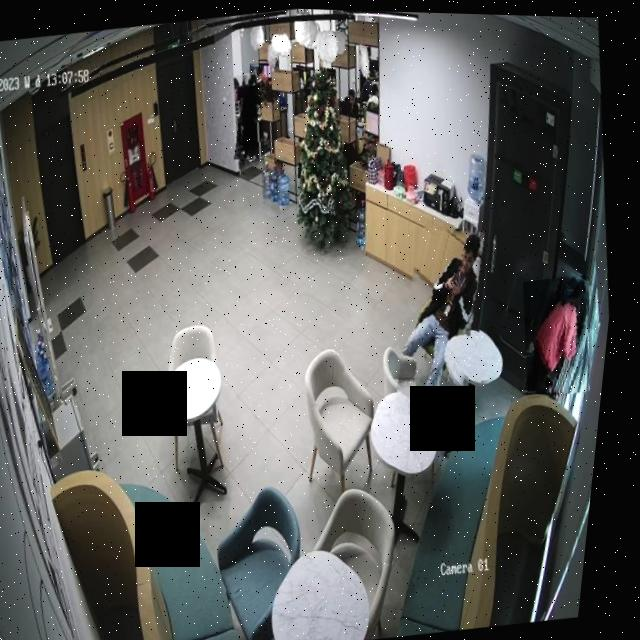person: (385, 218, 508, 421), (519, 270, 608, 397), (228, 71, 273, 160)
